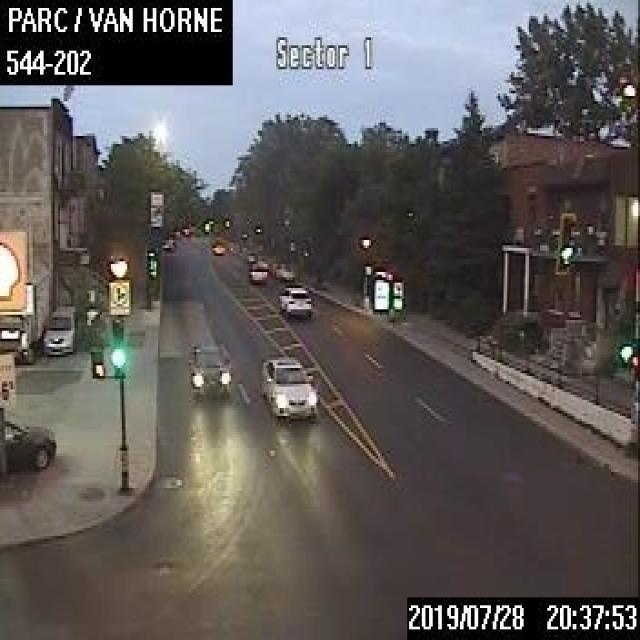vehicle: (0, 267, 47, 361), (258, 352, 318, 417), (2, 418, 56, 471), (186, 342, 231, 398), (41, 304, 78, 353), (276, 284, 312, 317), (271, 258, 293, 280), (247, 259, 267, 282), (210, 237, 225, 254), (162, 237, 174, 250), (243, 248, 254, 260)
